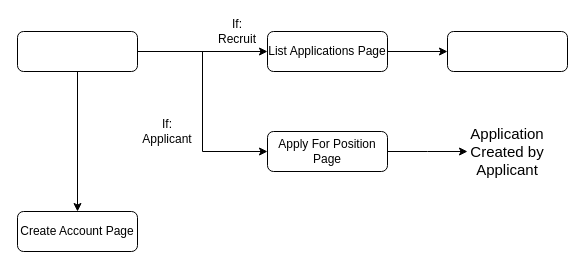
Image size: 585x269. Some labels were removed from this diagram. The centre of each missing label's shape, as x and y in pixels:
Individual Application Page: point (507, 51)
Login Page: point (77, 51)
